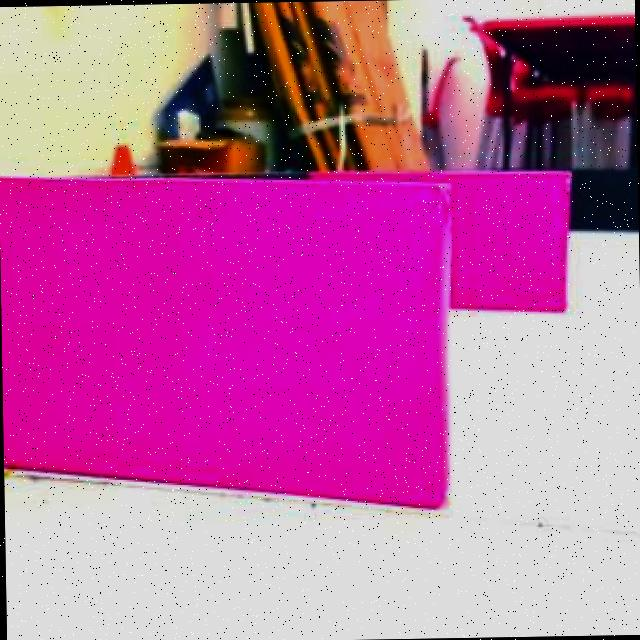xparking: (0, 175, 453, 512), (452, 168, 574, 317)
